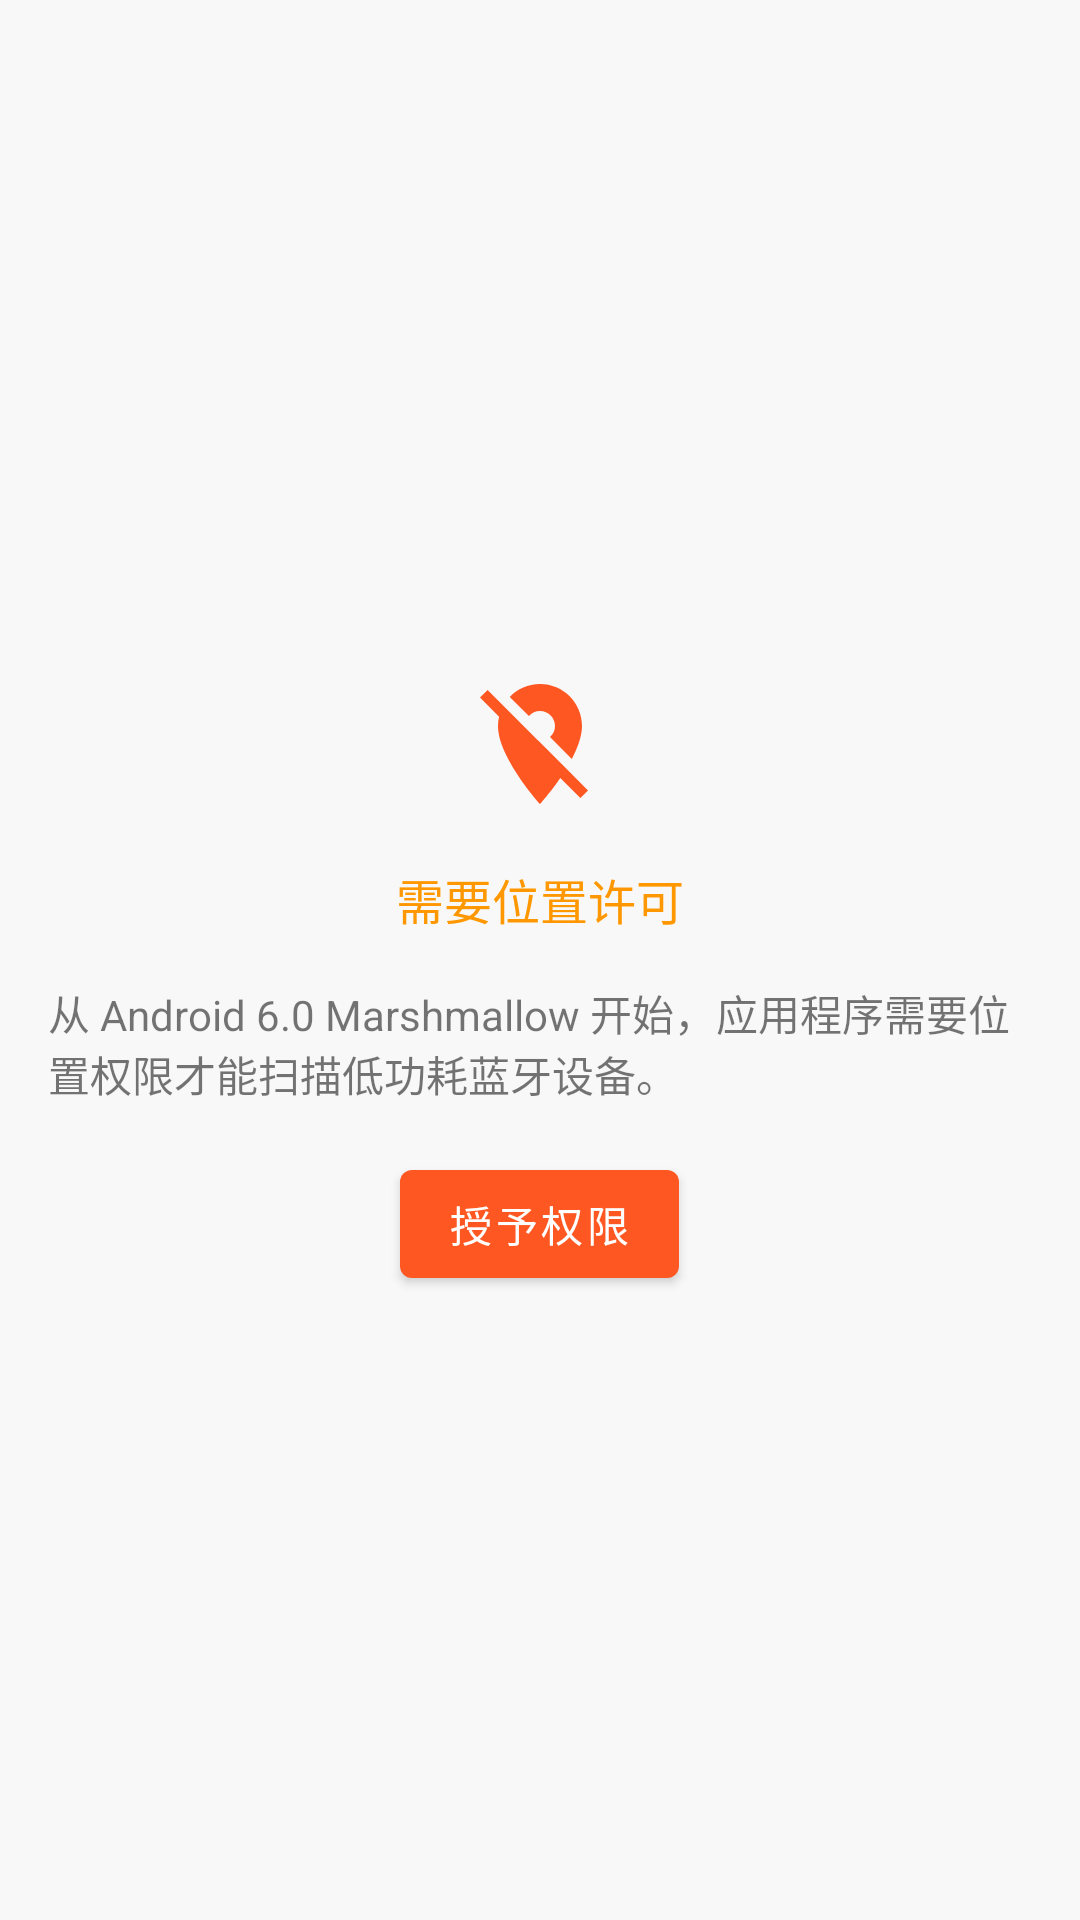

Screen size 1080 × 1920. Icon name, then its box in pixels as (x1, y1, x2, y2):
location off: (480, 684, 588, 804)
